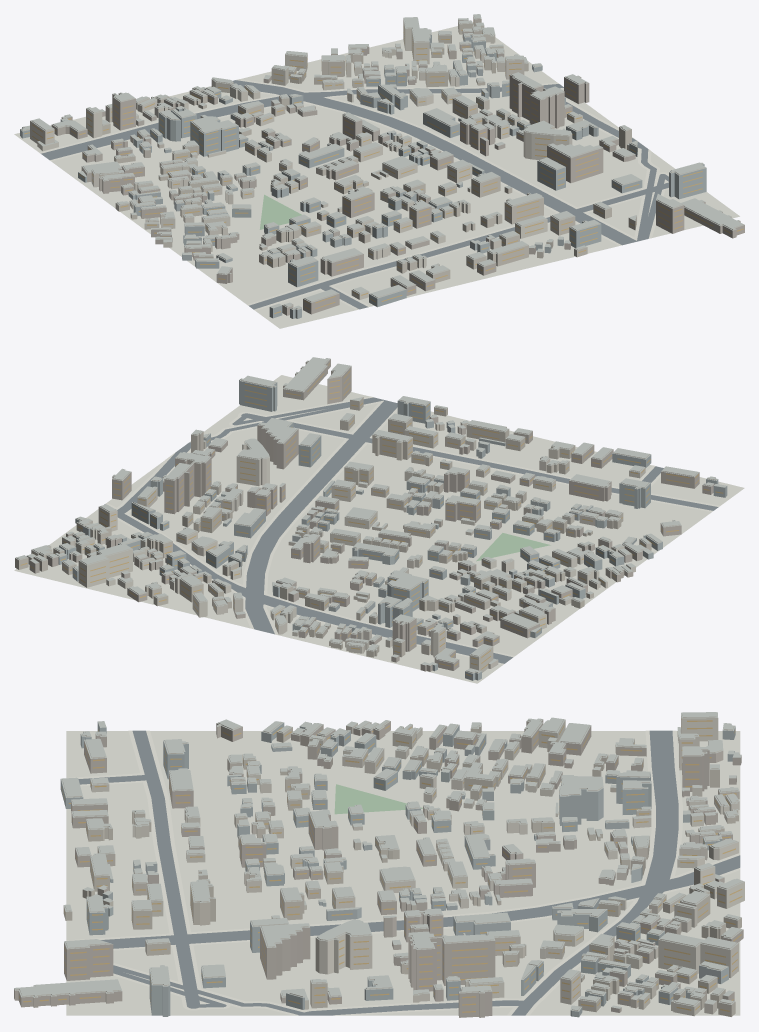
The picture shows the model from 3 angles, top to bottom: view 1: azimuth 30°, elevation 25°; view 2: azimuth 150°, elevation 25°; view 3: azimuth 270°, elevation 25°; orthographic projection. The views are drawn at different scales.
Visible parts, largest first — view 1: city; view 2: city; view 3: city.
Part boxes in pixels (x1,y1,x2,y2): city: (14, 14, 744, 328); city: (14, 357, 744, 683); city: (14, 712, 744, 1017).
Bounding box in the file's own units: 511 × 35.2 × 542.
